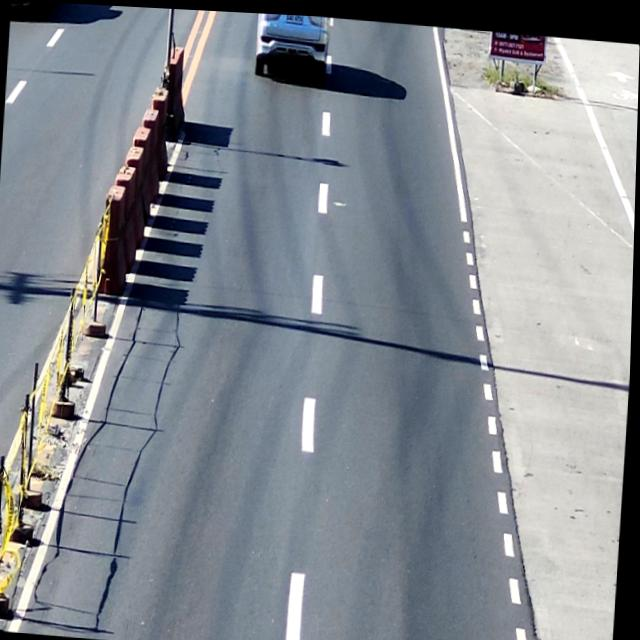Car: (251, 10, 331, 80)
License-Plate: (283, 12, 304, 25)
